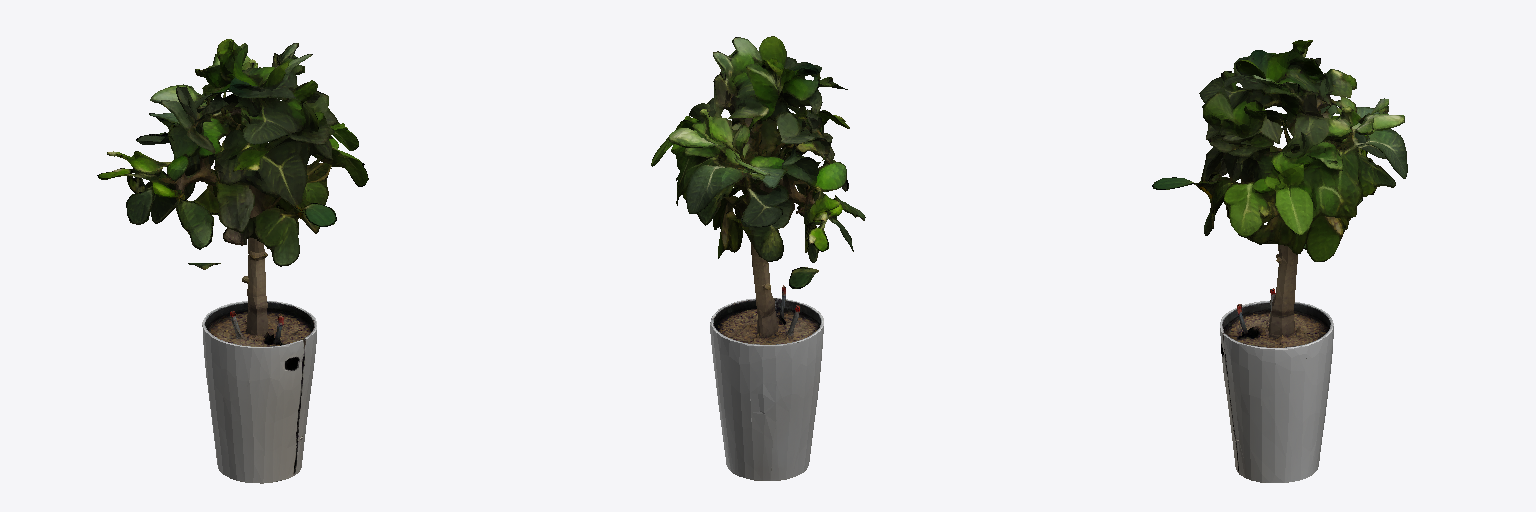
The picture shows the model from 3 angles: view 1: azimuth 30°, elevation 25°; view 2: azimuth 150°, elevation 25°; view 3: azimuth 270°, elevation 25°; orthographic projection.
Parts seen in each view (by area): view 1: geometry_0; view 2: geometry_0; view 3: geometry_0.
Boxes of the visible parts, x1=… form: geometry_0: x1=97, y1=39, x2=368, y2=483; geometry_0: x1=651, y1=36, x2=865, y2=480; geometry_0: x1=1152, y1=40, x2=1407, y2=482.
Bounding box in the file's own units: 0.5404 × 0.9986 × 0.5532.
1 materials, 1 textured.